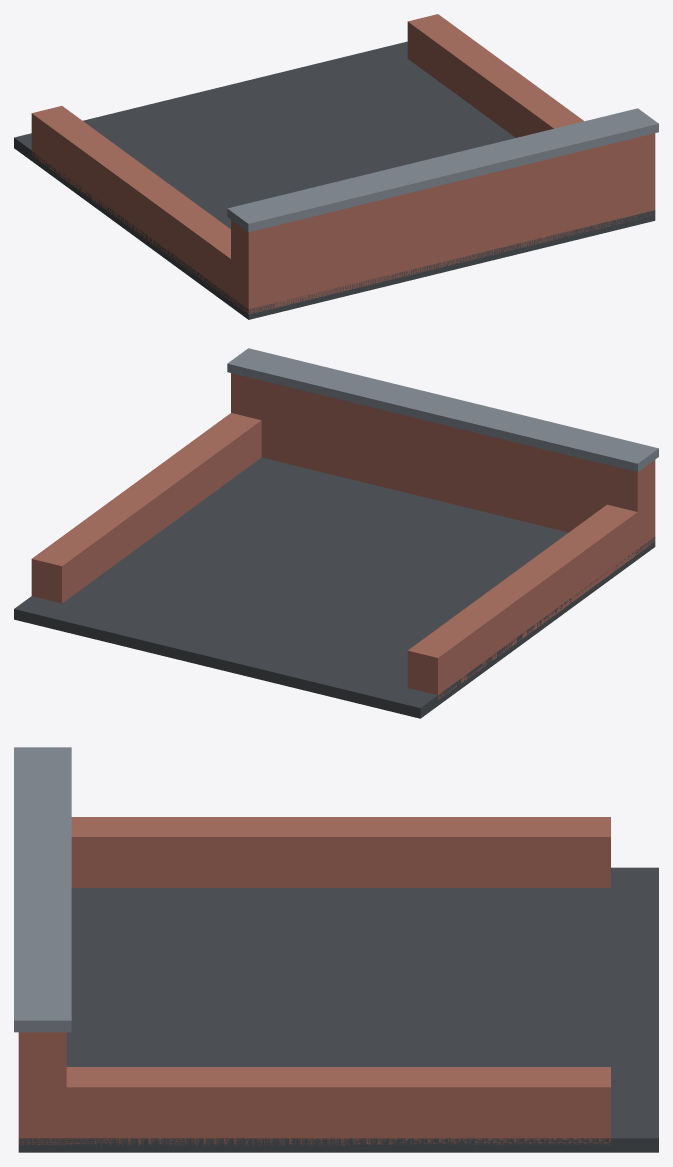
File: arkham_roof_parapetflat.glb
3 views of the same model, one above another, from view 1: azimuth 30°, elevation 25°; view 2: azimuth 150°, elevation 25°; view 3: azimuth 270°, elevation 25° (orthographic). The views are drawn at different scales.
Parts seen in each view (by area): view 1: Arkham_Roof_ParapetFlat; view 2: Arkham_Roof_ParapetFlat; view 3: Arkham_Roof_ParapetFlat.
Boxes of the visible parts, x1,y1,x2,y2 form: Arkham_Roof_ParapetFlat: [14, 14, 658, 319]; Arkham_Roof_ParapetFlat: [14, 348, 658, 718]; Arkham_Roof_ParapetFlat: [14, 747, 658, 1152].
Bounding box in the file's own units: 4.04 × 0.92 × 4.03.
